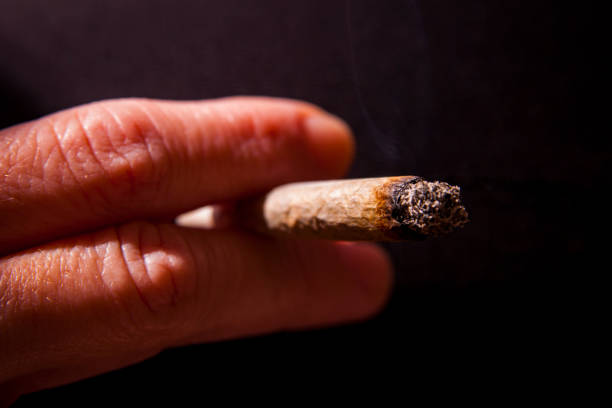cigarette: (176, 175, 473, 243)
